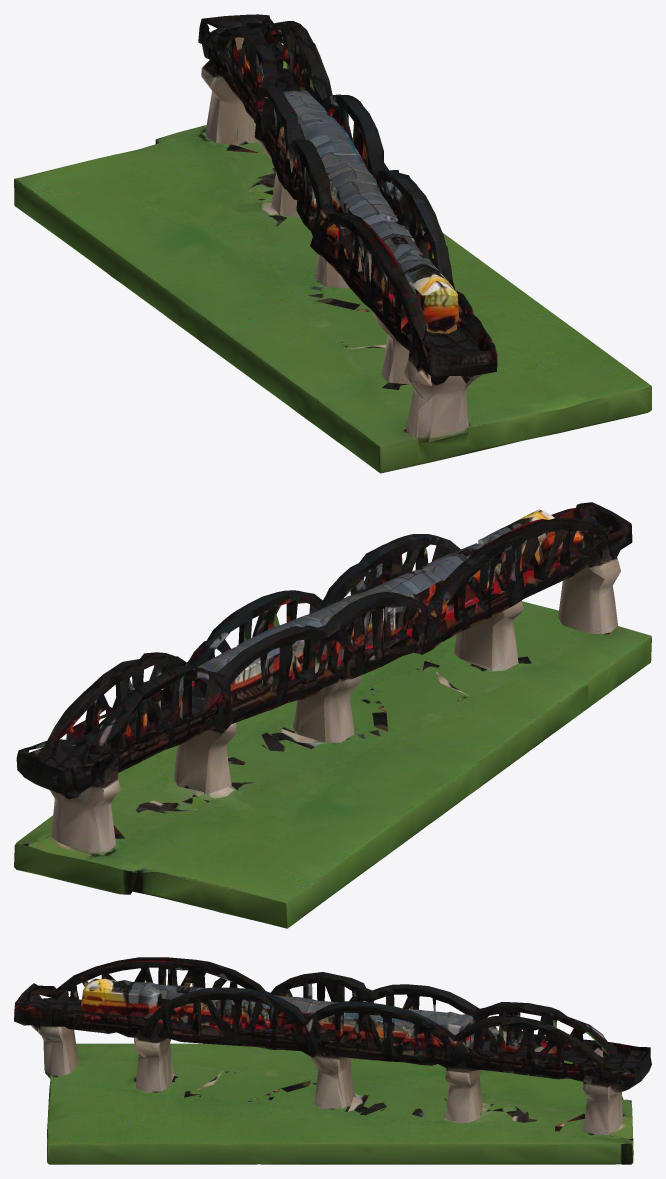
The model's file is river-kwai-bridge.glb.
The picture shows the model from 3 angles, top to bottom: view 1: azimuth 30°, elevation 25°; view 2: azimuth 150°, elevation 25°; view 3: azimuth 270°, elevation 25°; orthographic projection. The views are drawn at different scales.
Visible parts, largest first — view 1: logan-textured.obj; view 2: logan-textured.obj; view 3: logan-textured.obj.
Part boxes in pixels (box(x1,y1,x2,y2)): logan-textured.obj: box(14, 14, 651, 473); logan-textured.obj: box(14, 502, 651, 928); logan-textured.obj: box(14, 957, 651, 1164).
Size of the model in its own units: 0.3752 by 0.2251 by 1.
Materials: 1 (1 with a texture image).
